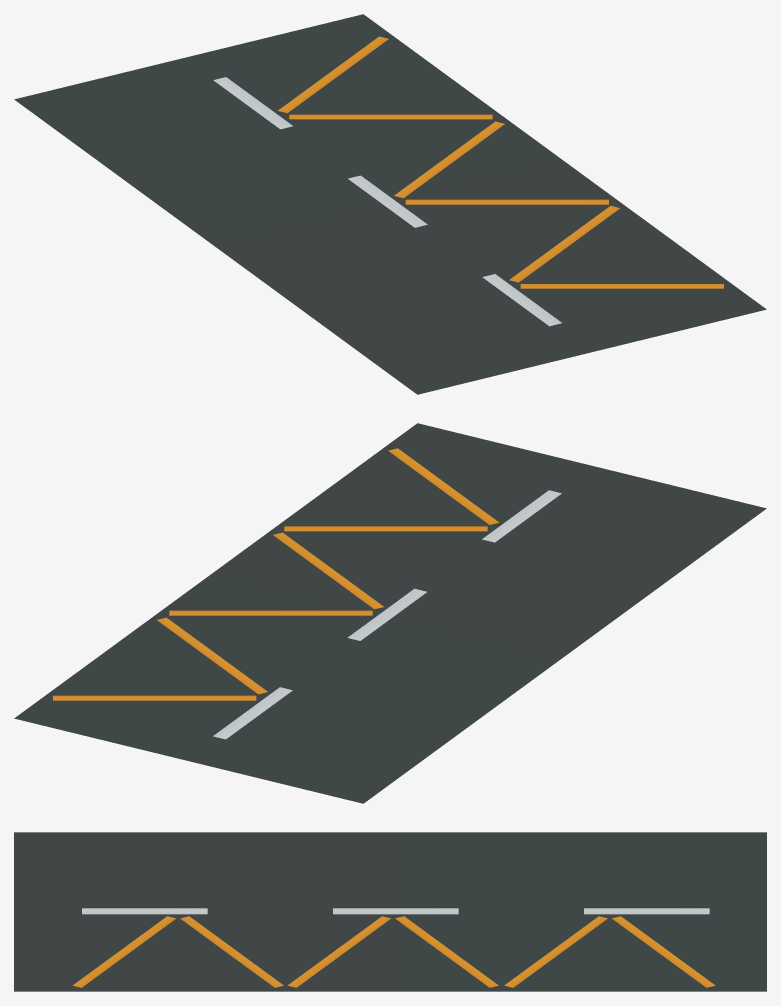
The model's file is Road_2_117.fbx.
3 renders of one model, top to bottom at view 1: azimuth 30°, elevation 25°; view 2: azimuth 150°, elevation 25°; view 3: azimuth 270°, elevation 25°, orthographic. The views are drawn at different scales.
Visible parts, largest first — view 1: Road_2_117; view 2: Road_2_117; view 3: Road_2_117.
Boxes of the visible parts, <box> form: Road_2_117: <box>14,14,766,394</box>; Road_2_117: <box>14,423,766,803</box>; Road_2_117: <box>14,832,766,991</box>.
Bounding box in the file's own units: 900 × 1.66 × 1800.
